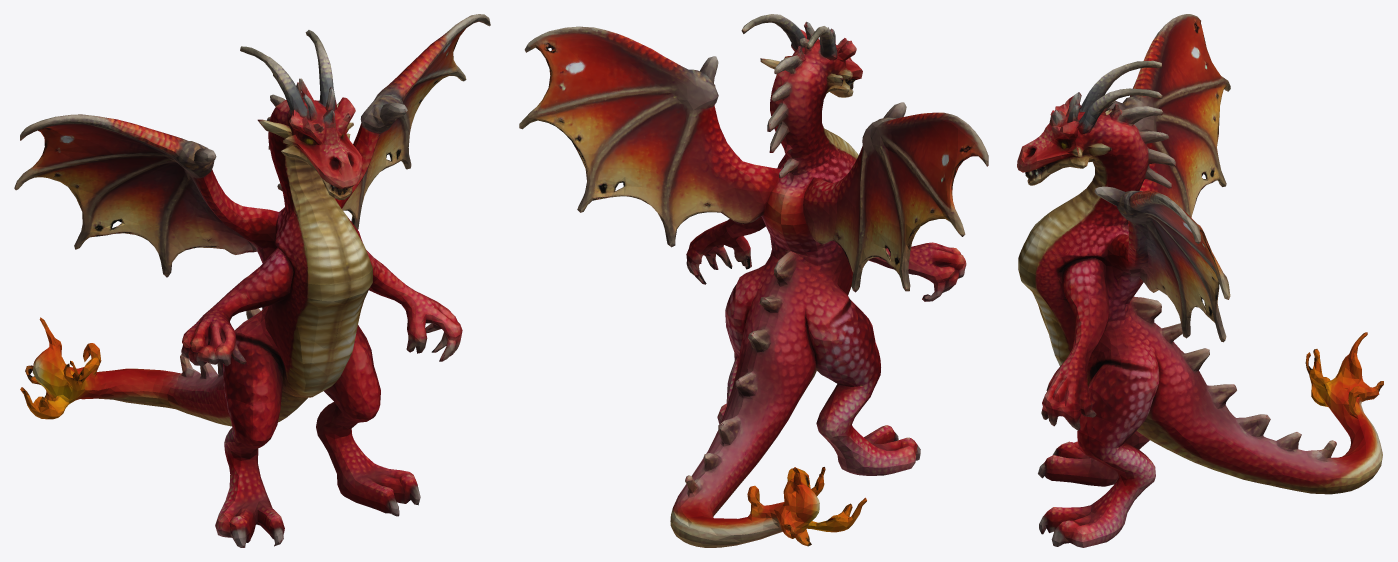
The model's file is dragon.glb.
3 views of the same model, side by side, from view 1: azimuth 30°, elevation 25°; view 2: azimuth 150°, elevation 25°; view 3: azimuth 270°, elevation 25° (orthographic). The views are drawn at different scales.
Parts seen in each view (by area): view 1: world; view 2: world; view 3: world.
Part boxes in pixels (box(x1,y1,x2,y2)): world: box(14, 14, 490, 547); world: box(519, 14, 988, 547); world: box(1017, 14, 1383, 547).
Bounding box in the file's own units: 1 × 0.9227 × 0.7087.
1 material, 1 textured.
